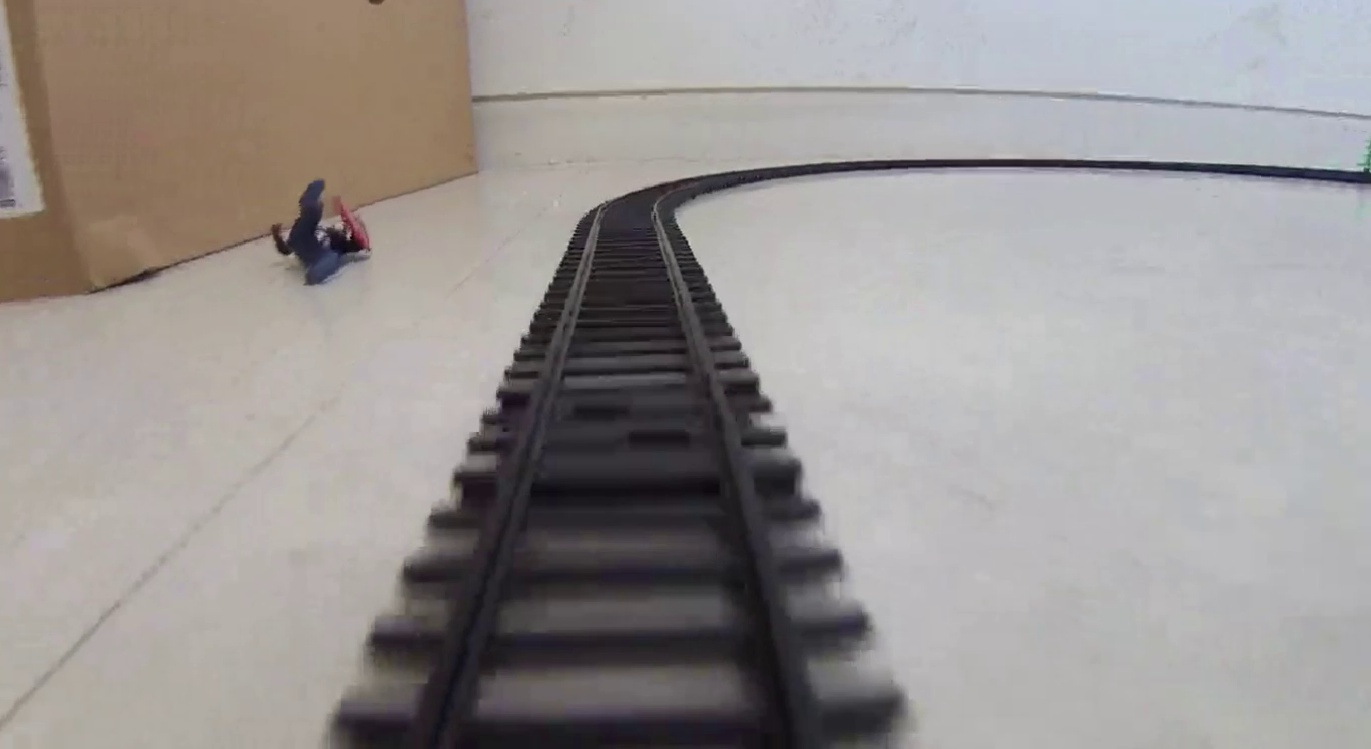people: (276, 176, 372, 285)
